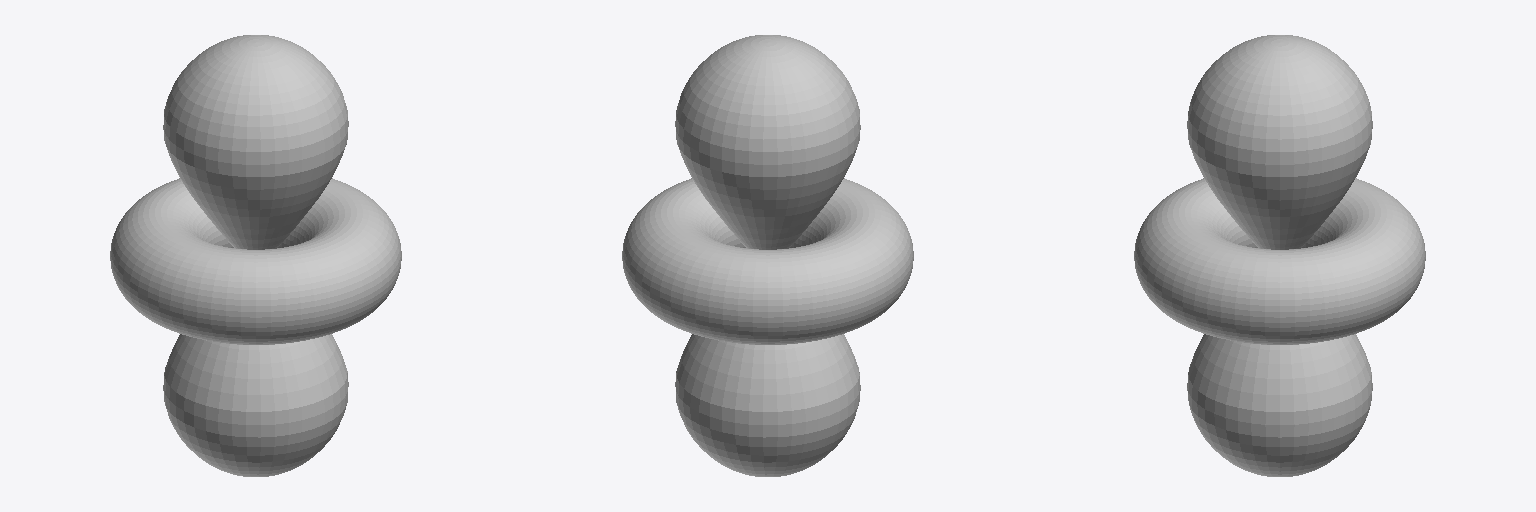
The picture shows the model from 3 angles: view 1: azimuth 30°, elevation 25°; view 2: azimuth 150°, elevation 25°; view 3: azimuth 270°, elevation 25°; orthographic projection.
Visible parts, largest first — view 1: a:Dgui a:polySurface26 a:polySurface1; view 2: a:Dgui a:polySurface26 a:polySurface1; view 3: a:Dgui a:polySurface26 a:polySurface1.
Boxes of the visible parts, x1,y1,x2,y2 form: a:Dgui a:polySurface26 a:polySurface1: [110, 35, 401, 476]; a:Dgui a:polySurface26 a:polySurface1: [622, 35, 913, 476]; a:Dgui a:polySurface26 a:polySurface1: [1134, 35, 1425, 476].
Bounding box in the file's own units: 34.09 × 55.07 × 34.09.